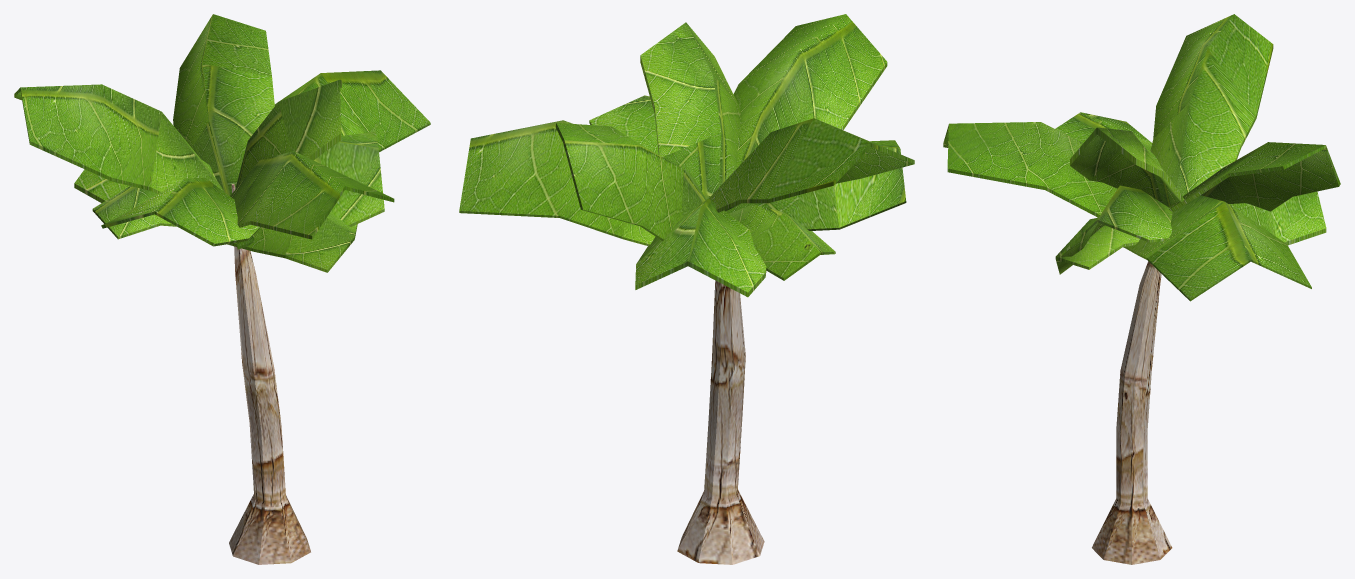
File: coco 3.fbx
3 renders of one model, left to right at view 1: azimuth 30°, elevation 25°; view 2: azimuth 150°, elevation 25°; view 3: azimuth 270°, elevation 25°, orthographic. The views are drawn at different scales.
Visible parts, largest first — view 1: polySurface12; view 2: polySurface12; view 3: polySurface12.
Part boxes in pixels (bbox=[...]): polySurface12: bbox=[14, 14, 430, 564]; polySurface12: bbox=[459, 14, 914, 564]; polySurface12: bbox=[943, 14, 1340, 564].
Bounding box in the file's own units: 7.9 × 8.78 × 7.12.
